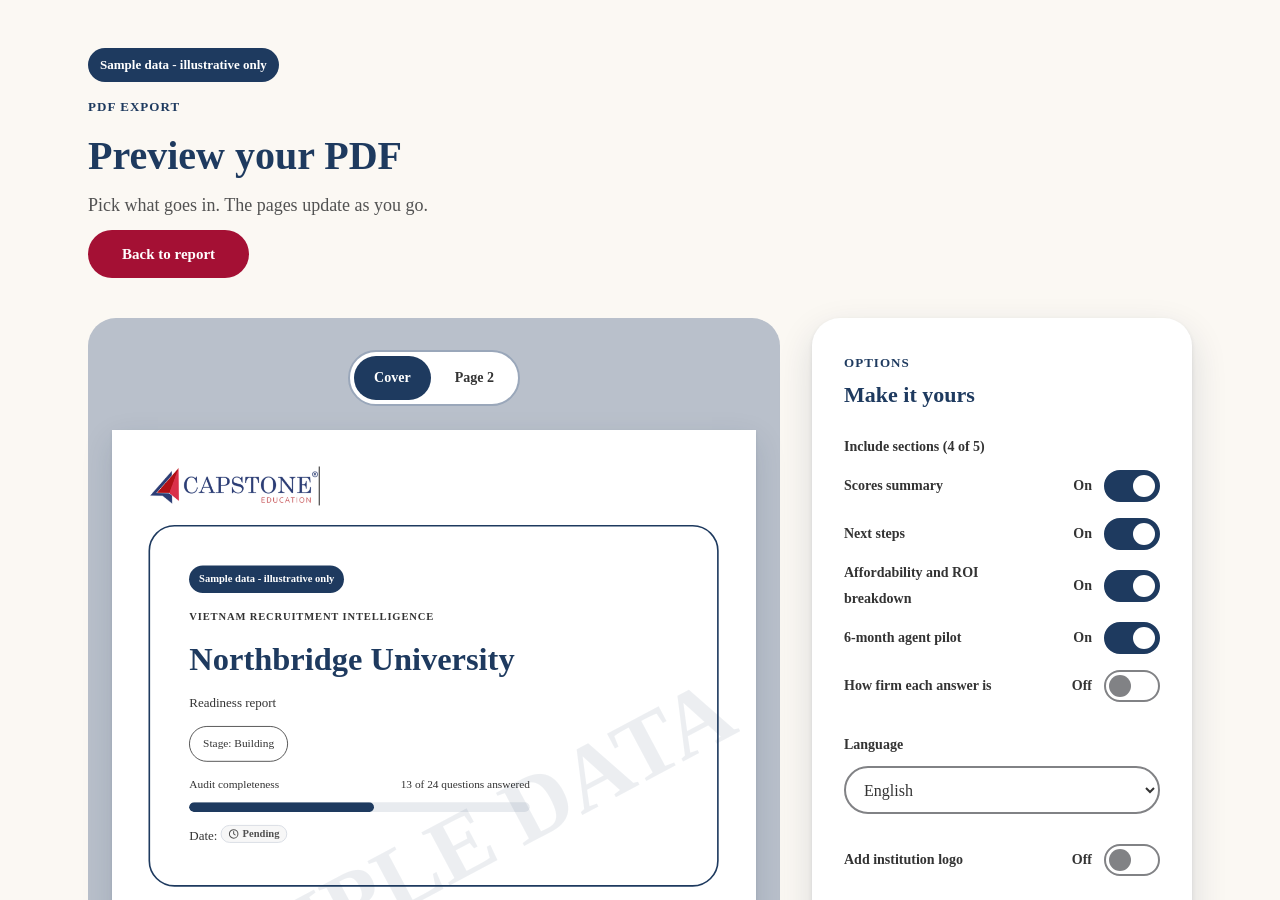
PdfExportPage › adds and removes a section from the document
Click the switch named "How firm each answer is" in the row of "How firm each answer is". click: point(1132, 686)
box: [1104, 664, 1160, 708]
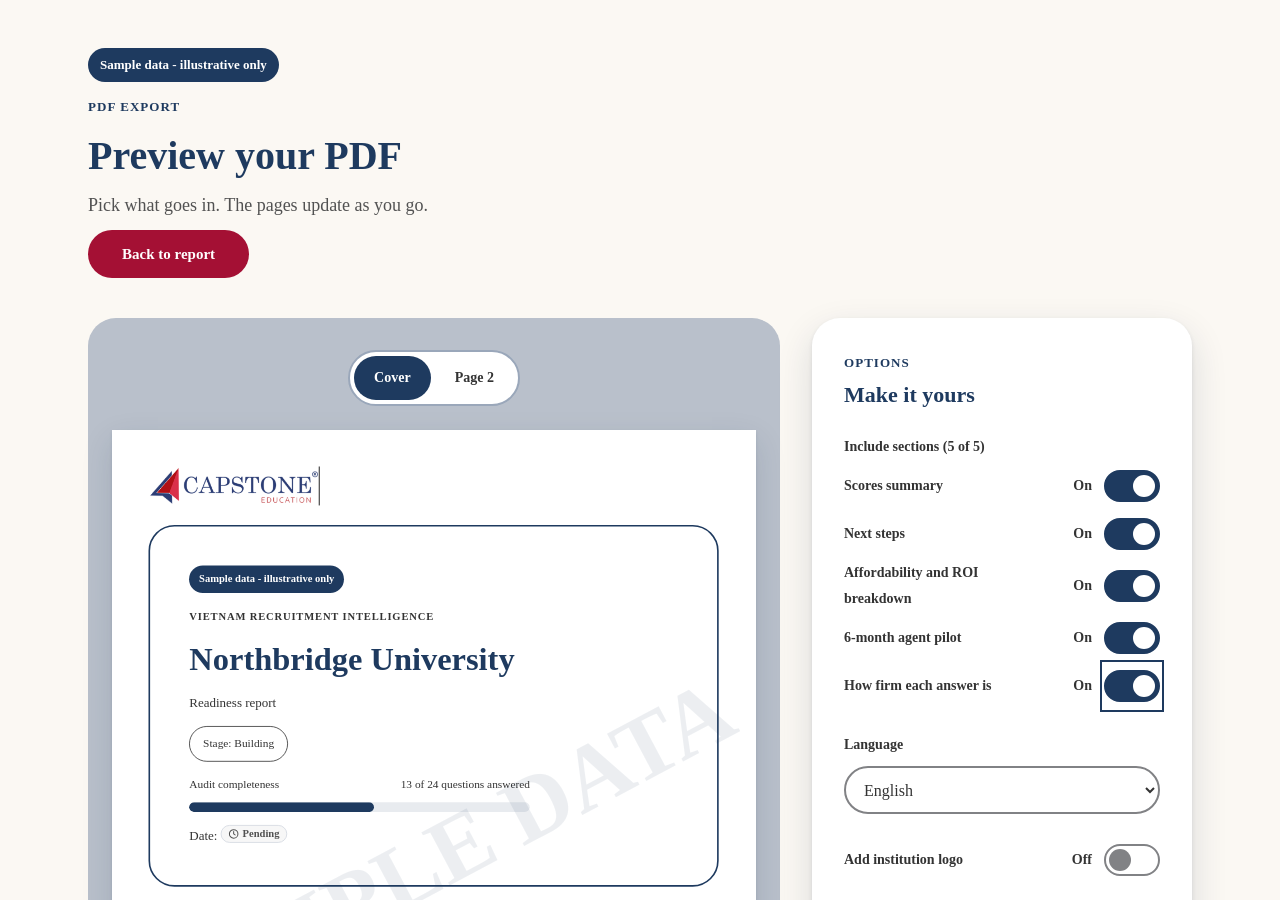
Click the switch named "6-month agent pilot" in the row of "6-month agent pilot". click: point(1132, 638)
box: [1104, 616, 1160, 660]
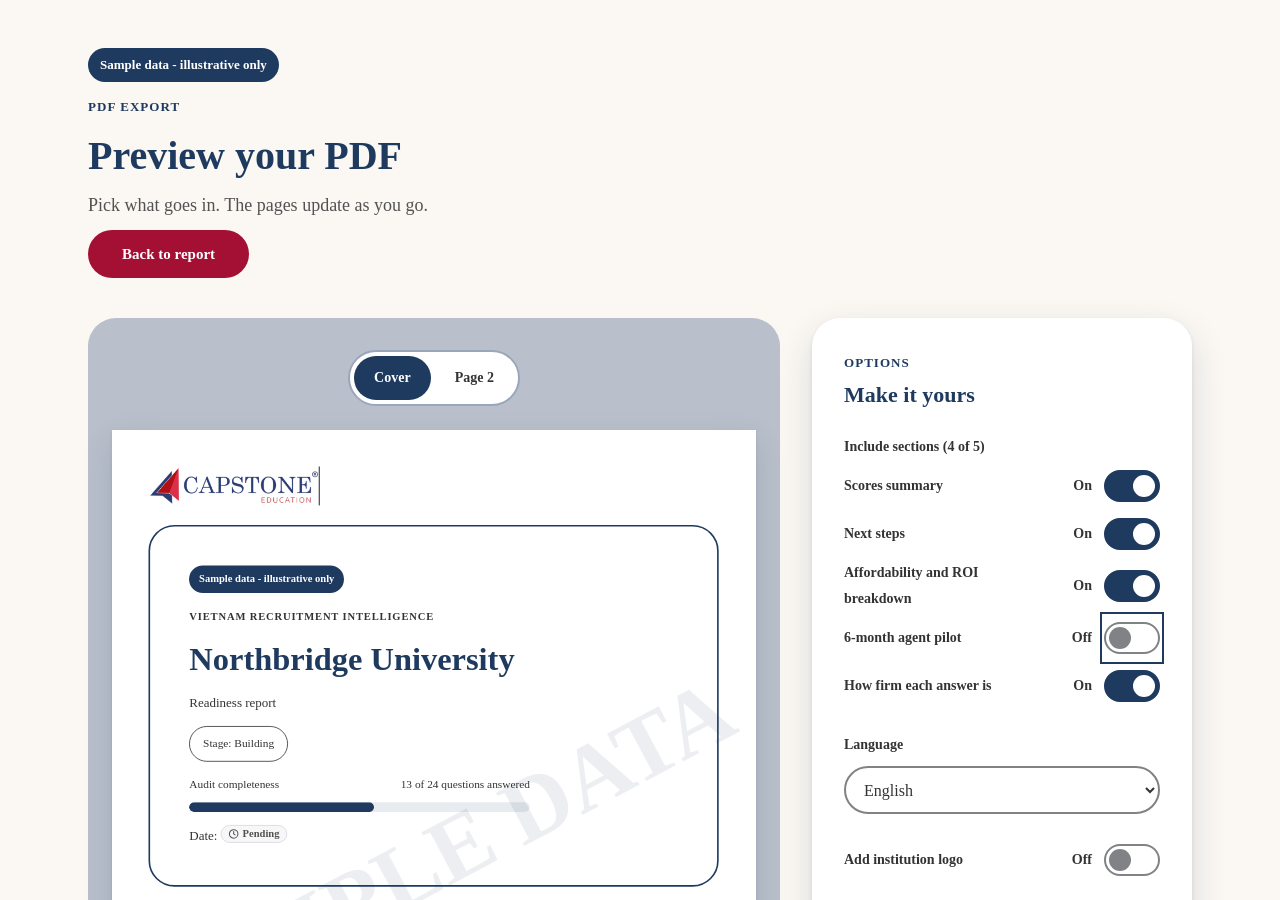
Result: the text "Include sections (4 of 5)" is shown at [844, 439, 985, 454]
